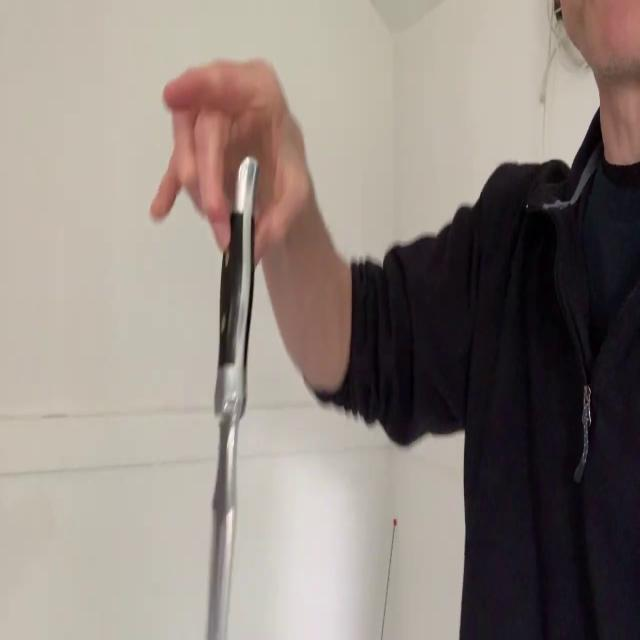Knife_Handle: (150, 57, 311, 640)
